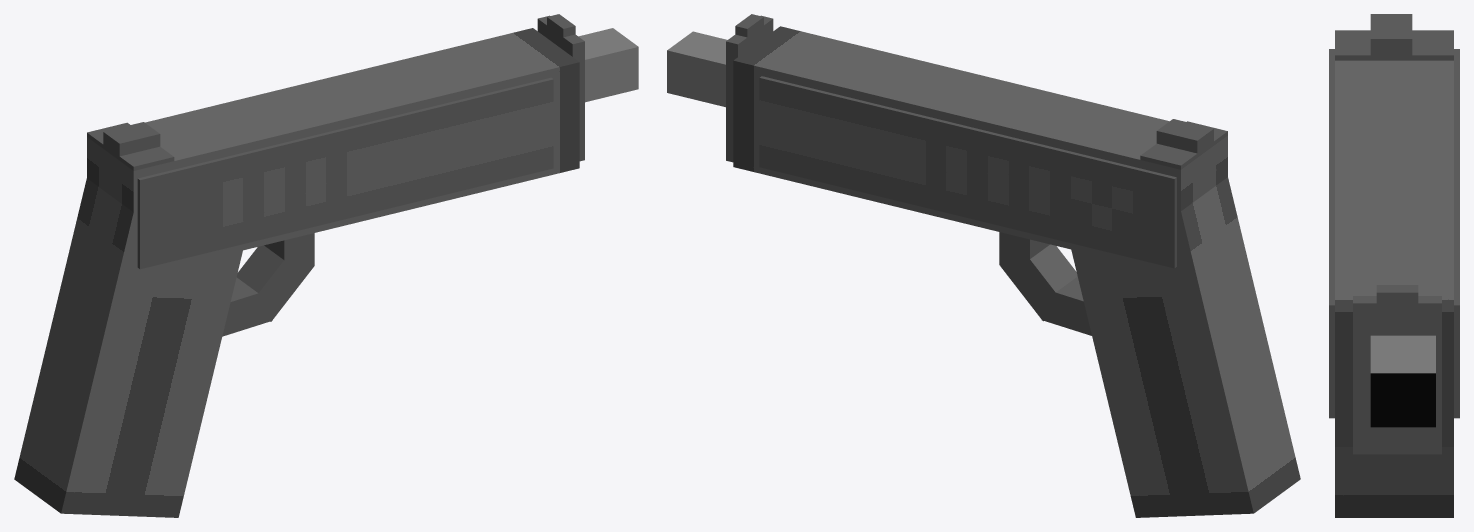
File: Pistola1.gltf
The picture shows the model from 3 angles, left to right: view 1: azimuth 30°, elevation 25°; view 2: azimuth 150°, elevation 25°; view 3: azimuth 270°, elevation 25°; orthographic projection. The views are drawn at different scales.
Visible parts, largest first — view 1: cube (×10); view 2: cube (×10); view 3: cube (×9).
Part boxes in pixels (x1,y1,x2,y2): cube (×10): [14, 15, 638, 517]; cube (×10): [667, 15, 1300, 517]; cube (×9): [1329, 14, 1459, 517].
Bounding box in the file's own units: 0.9119 × 0.5583 × 0.1375.
1 material, 1 textured.
